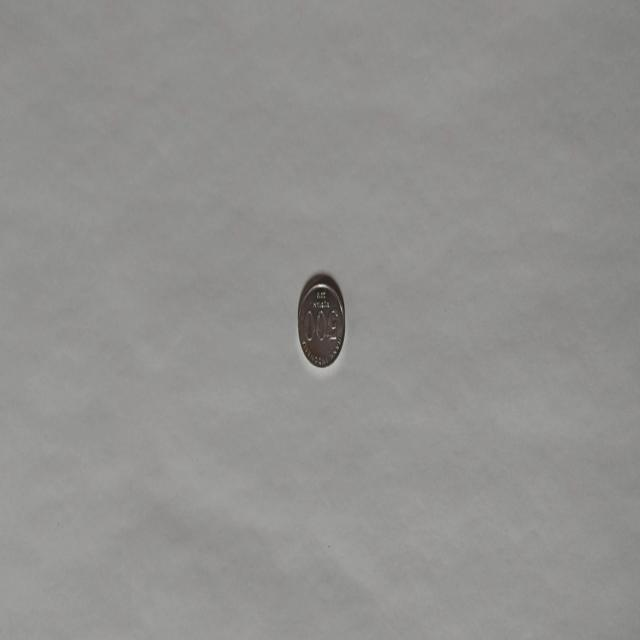lima ratus rupiah: (296, 273, 346, 369)
